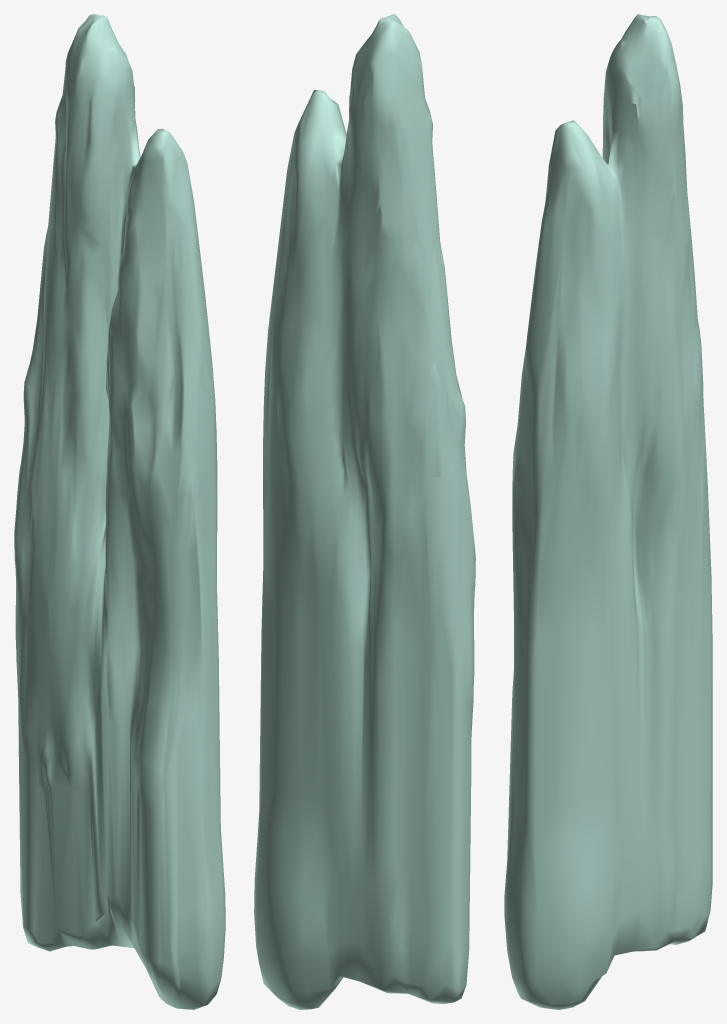
Rendered from mountains4.obj.
The picture shows the model from 3 angles, left to right: view 1: azimuth 30°, elevation 25°; view 2: azimuth 210°, elevation 25°; view 3: azimuth 270°, elevation 25°; orthographic projection. The views are drawn at different scales.
Parts seen in each view (by area): view 1: SelSet_3 polySurface96 polySurface46, SelSet_16 polySurface96 polySurface46, SelSet_2 polySurface96 polySurface46; view 2: SelSet_3 polySurface96 polySurface46, SelSet_16 polySurface96 polySurface46, SelSet_2 polySurface96 polySurface46; view 3: SelSet_3 polySurface96 polySurface46, SelSet_16 polySurface96 polySurface46, SelSet_2 polySurface96 polySurface46.
Part boxes in pixels (bbox=[...]): SelSet_3 polySurface96 polySurface46: bbox=[15, 14, 225, 1009]; SelSet_16 polySurface96 polySurface46: bbox=[14, 14, 215, 1008]; SelSet_2 polySurface96 polySurface46: bbox=[22, 148, 216, 702]; SelSet_3 polySurface96 polySurface46: bbox=[254, 14, 475, 1009]; SelSet_16 polySurface96 polySurface46: bbox=[258, 14, 475, 1009]; SelSet_2 polySurface96 polySurface46: bbox=[293, 25, 470, 988]; SelSet_3 polySurface96 polySurface46: bbox=[504, 14, 712, 1009]; SelSet_16 polySurface96 polySurface46: bbox=[504, 16, 711, 1009]; SelSet_2 polySurface96 polySurface46: bbox=[532, 22, 712, 954].
Size of the model in its own units: 490 by 3349 by 649.
